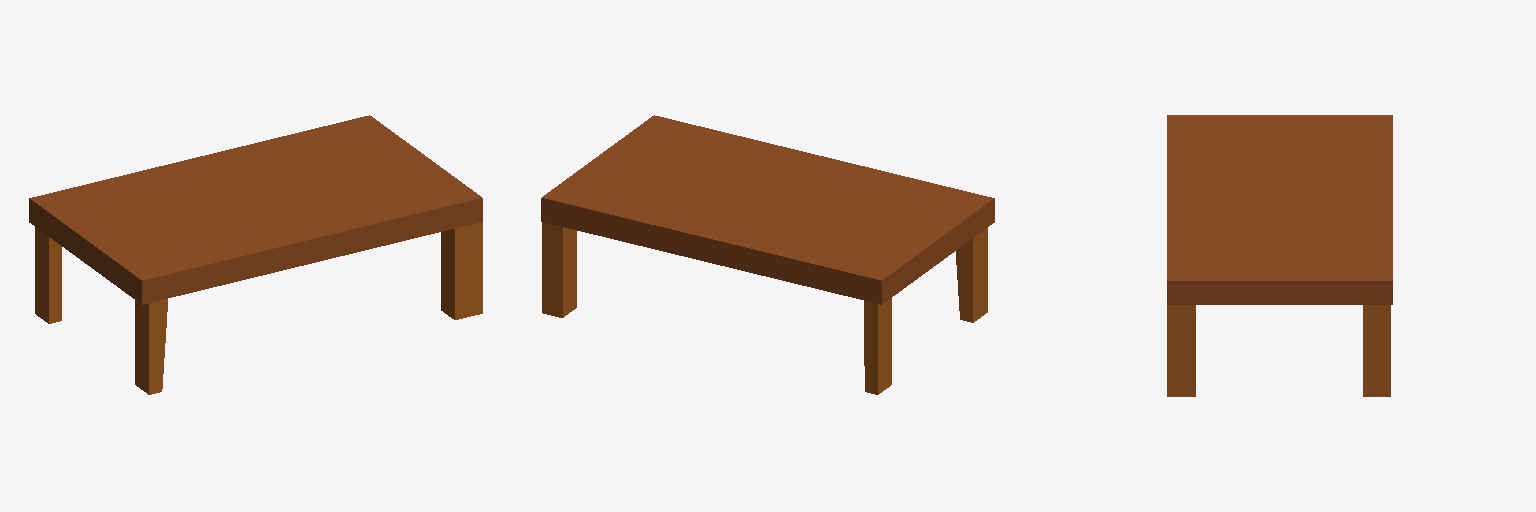
The model's file is Mesa.obj.
3 renders of one model, left to right at view 1: azimuth 30°, elevation 25°; view 2: azimuth 150°, elevation 25°; view 3: azimuth 270°, elevation 25°, orthographic.
Visible parts, largest first — view 1: Table; view 2: Table; view 3: Table.
Part boxes in pixels (x1,y1,x2,y2): Table: (29, 115, 482, 394); Table: (541, 115, 994, 394); Table: (1167, 115, 1392, 396).
Size of the model in its own units: 83.43 by 27.18 by 47.81.